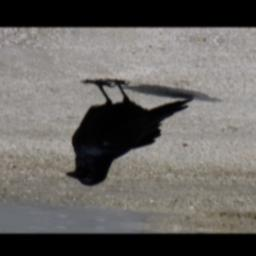Crow: (61, 76, 198, 193)
